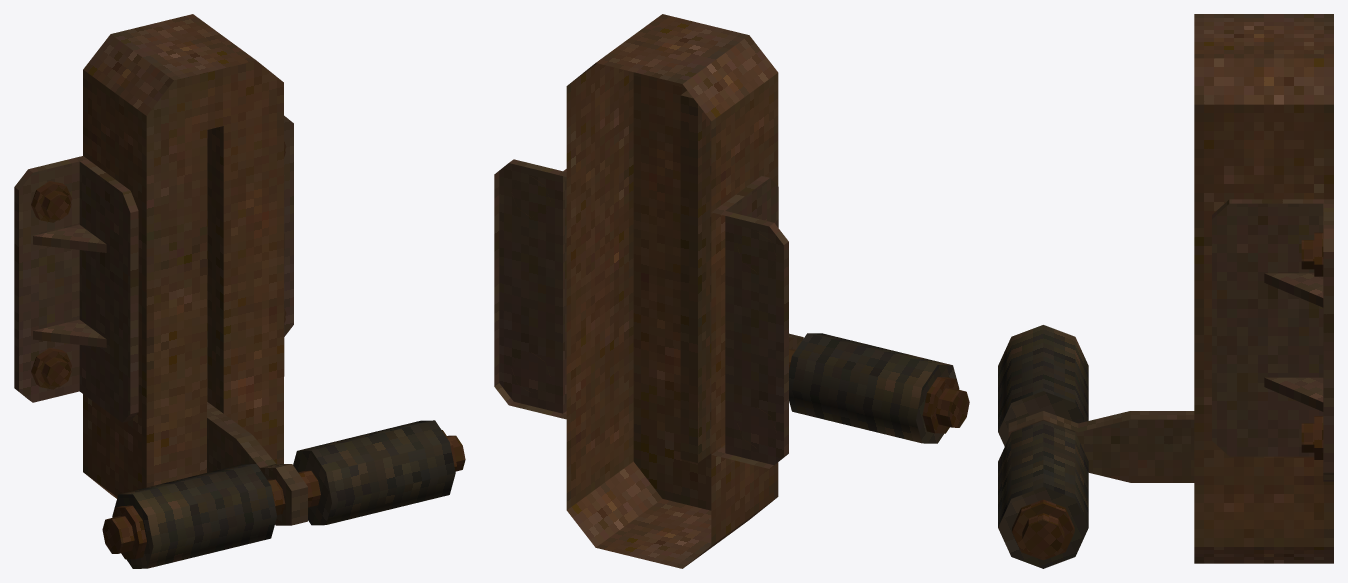
File: lever_etx_6.glb
The picture shows the model from 3 angles, left to right: view 1: azimuth 30°, elevation 25°; view 2: azimuth 150°, elevation 25°; view 3: azimuth 270°, elevation 25°; orthographic projection. The views are drawn at different scales.
Parts seen in each view (by area): view 1: lever_etx_6, lever_etx_6_child; view 2: lever_etx_6, lever_etx_6_child; view 3: lever_etx_6, lever_etx_6_child.
Part boxes in pixels (<box>): lever_etx_6: <box>14,14,293,498</box>; lever_etx_6_child: <box>102,402,465,568</box>; lever_etx_6: <box>494,14,788,568</box>; lever_etx_6_child: <box>698,333,969,462</box>; lever_etx_6: <box>1194,14,1333,563</box>; lever_etx_6_child: <box>998,325,1194,568</box>.
Bounding box in the file's own units: 0.2254 × 0.288 × 0.1734.
1 material, 1 textured.
